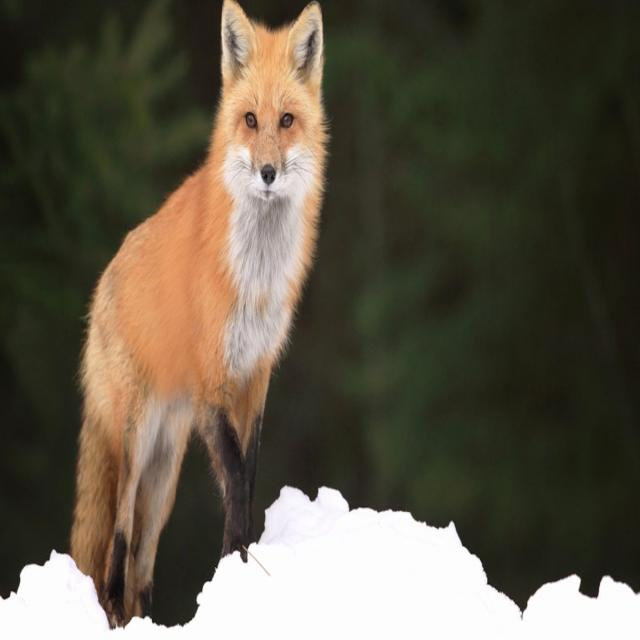fox: (71, 0, 328, 626)
